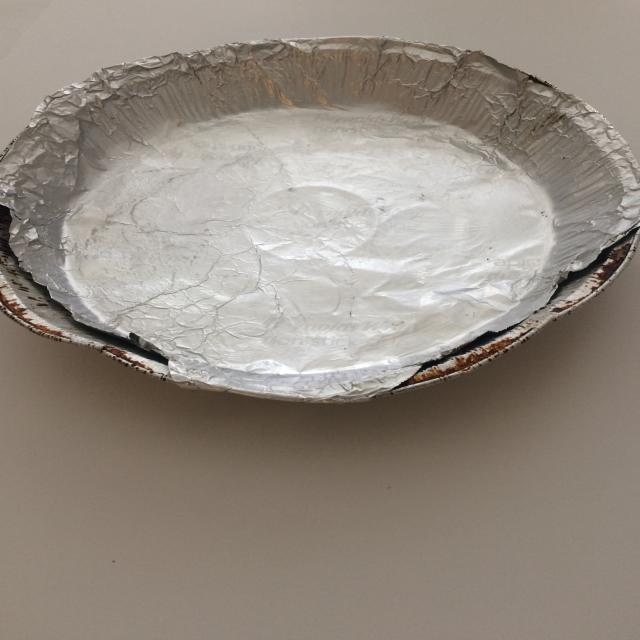metal: (0, 35, 640, 404)
